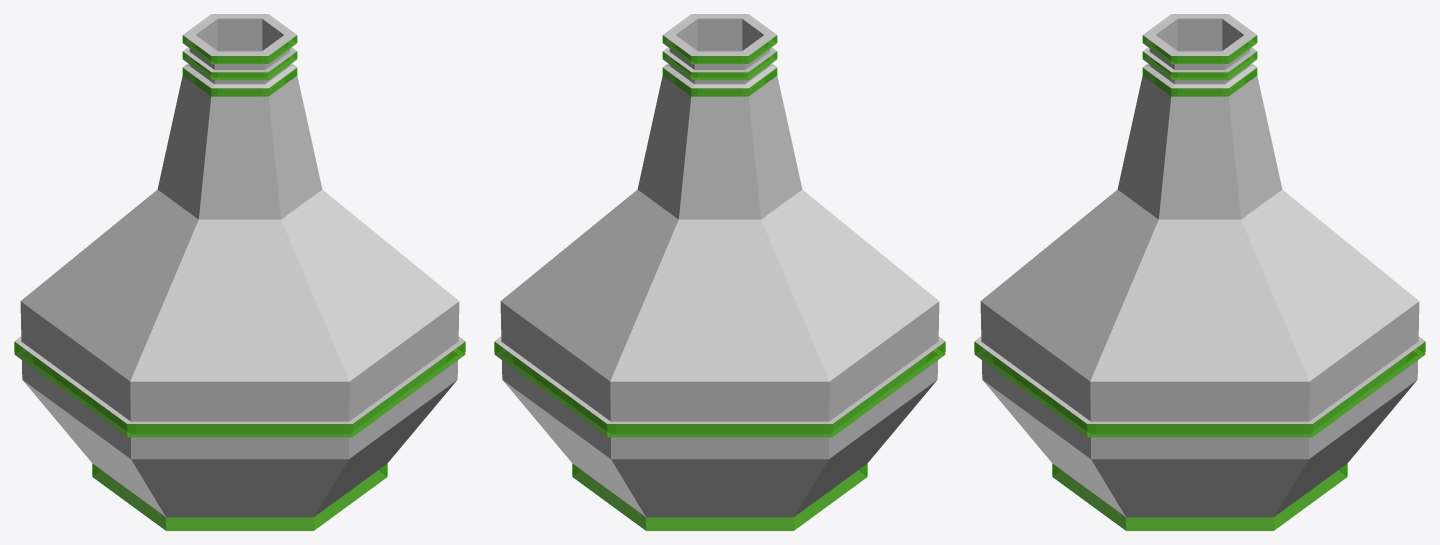
File: potion_green.fbx
3 renders of one model, left to right at view 1: azimuth 30°, elevation 25°; view 2: azimuth 150°, elevation 25°; view 3: azimuth 270°, elevation 25°, orthographic.
Parts seen in each view (by area): view 1: Red Potion; view 2: Red Potion; view 3: Red Potion.
Part boxes in pixels (x1=…): Red Potion: x1=14, y1=14, x2=465, y2=530; Red Potion: x1=494, y1=14, x2=945, y2=530; Red Potion: x1=974, y1=14, x2=1425, y2=530.
Size of the model in its own units: 9.44 by 11.78 by 10.9.
